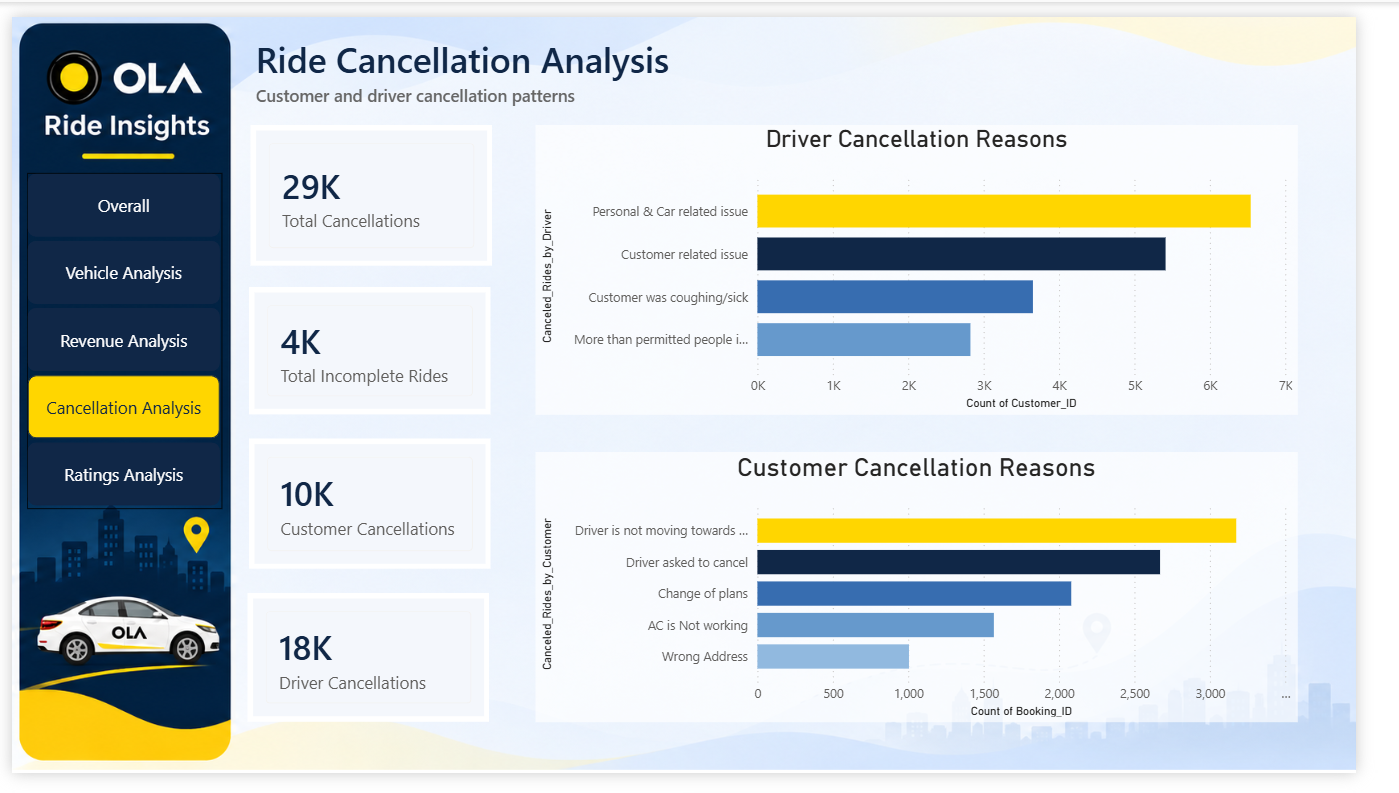

Layout of this report page (visuals, bound fields, positions):
{"tool":"powerbi","page":{"name":"Cancellation Analysis","canvas":[1280,720],"ordinal":3},"visuals":[{"type":"cardVisual","fields":{"Data":["cleaned_ola_data.Total Cancellations"]},"box":[227.1,102.9,230,134.3],"z":0},{"type":"cardVisual","fields":{"Data":["cleaned_ola_data.Total Customer Cancellations"]},"box":[225.7,401.4,230,124.3],"z":1000},{"type":"cardVisual","fields":{"Data":["cleaned_ola_data.Total Driver Cancellations"]},"box":[224.3,548.6,230,122.9],"z":2000},{"type":"cardVisual","fields":{"Data":["cleaned_ola_data.Total Incomplete Rides"]},"box":[225.7,257.1,230,121.4],"z":3000},{"type":"clusteredBarChart","title":"Customer Cancellation Reasons","fields":{"Y":["CountNonNull(cleaned_ola_data.Booking_ID)"],"Category":["cleaned_ola_data.Canceled_Rides_by_Customer"]},"box":[498.6,414.3,725.7,257.1],"z":4000},{"type":"clusteredBarChart","title":"Driver Cancellation Reasons","fields":{"Category":["cleaned_ola_data.Canceled_Rides_by_Driver"],"Y":["CountNonNull(cleaned_ola_data.Customer_ID)"]},"box":[498.6,102.9,725.7,275.7],"z":5000},{"type":"pageNavigator","box":[14.3,148.6,185.7,320],"z":5001},{"type":"textbox","title":"Ride Cancellation Analysis","box":[227.1,17.1,1012.9,85.7],"z":5002}]}

Visuals, with their boxes in screenshot pixels (x1, y1, x2, y2), scaled from the page's 1280x720 canvas onto the 1399x793 screenshot:
cardVisual - cleaned_ola_data.Total Cancellations: (x1=248, y1=113, x2=500, y2=261)
cardVisual - cleaned_ola_data.Total Customer Cancellations: (x1=247, y1=442, x2=498, y2=579)
cardVisual - cleaned_ola_data.Total Driver Cancellations: (x1=245, y1=604, x2=497, y2=740)
cardVisual - cleaned_ola_data.Total Incomplete Rides: (x1=247, y1=283, x2=498, y2=417)
"Customer Cancellation Reasons" clusteredBarChart: (x1=545, y1=456, x2=1338, y2=739)
"Driver Cancellation Reasons" clusteredBarChart: (x1=545, y1=113, x2=1338, y2=417)
pageNavigator: (x1=16, y1=164, x2=219, y2=516)
"Ride Cancellation Analysis" textbox: (x1=248, y1=19, x2=1355, y2=113)
